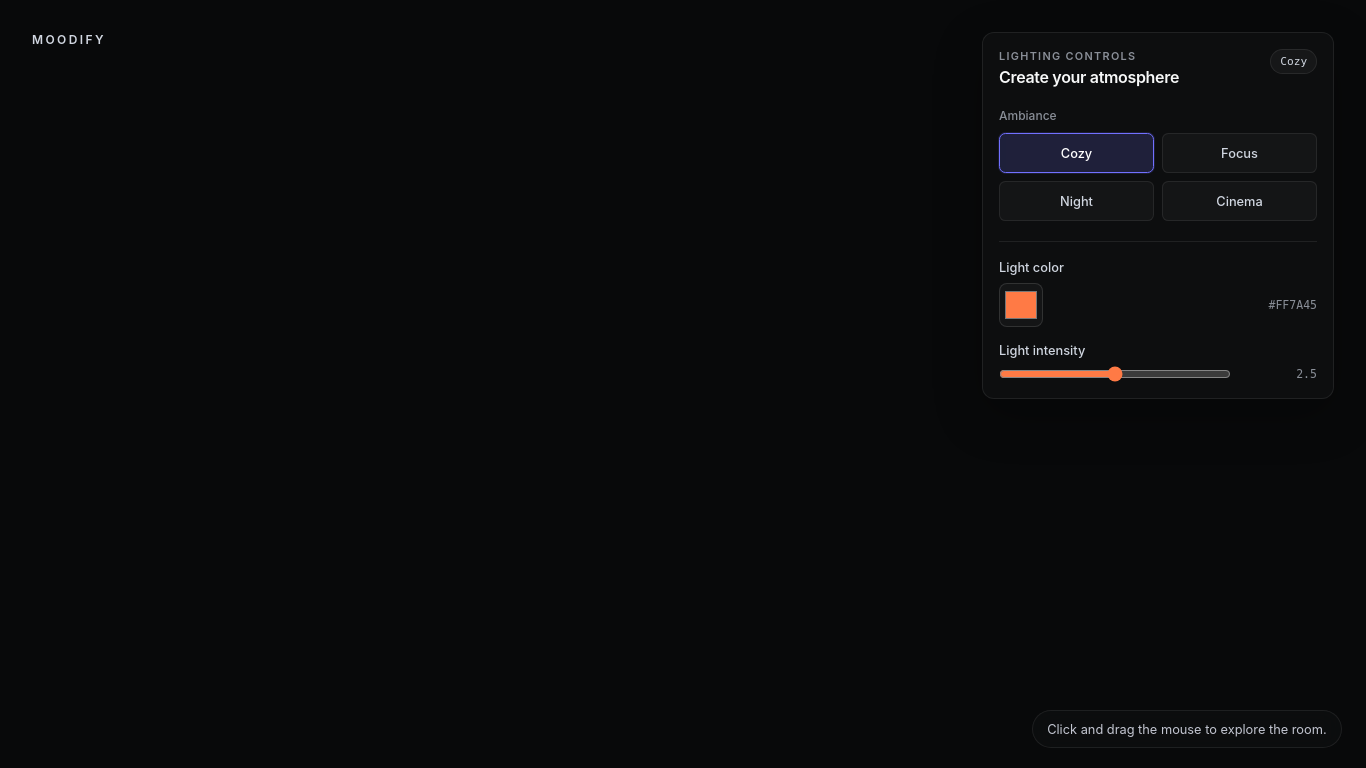
Test: App › applique le preset sélectionné et le marque comme actif
expect the element "Create your atmosphere" is shown: met, box x1=982 y1=32 x2=1334 y2=399
Click the button "Focus" at (1240, 153), box x1=1162 y1=133 x2=1317 y2=173
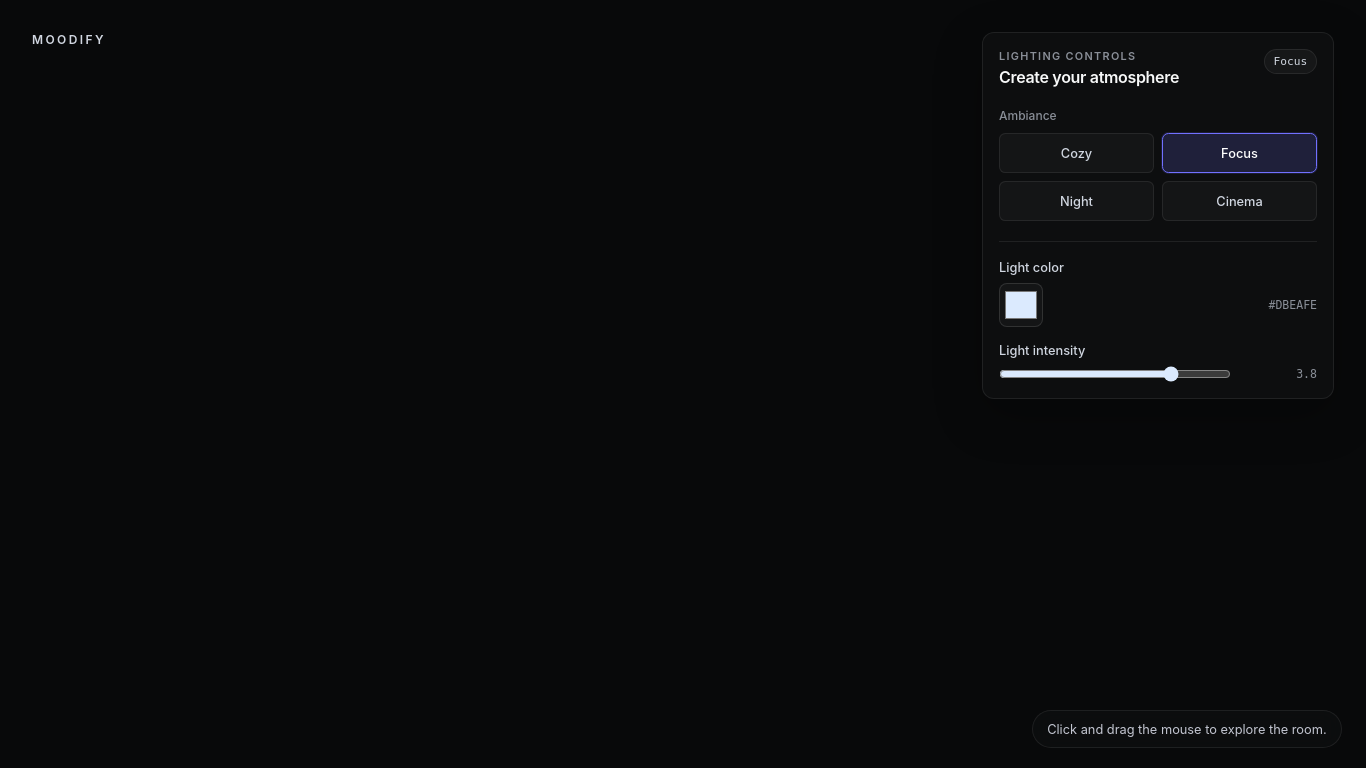
expect the colour field labelled "Light color" holds "#dbeafe": met, box x1=999 y1=283 x2=1043 y2=327
expect the slider labelled "Light intensity" holds "3.8": met, box x1=999 y1=366 x2=1231 y2=382
